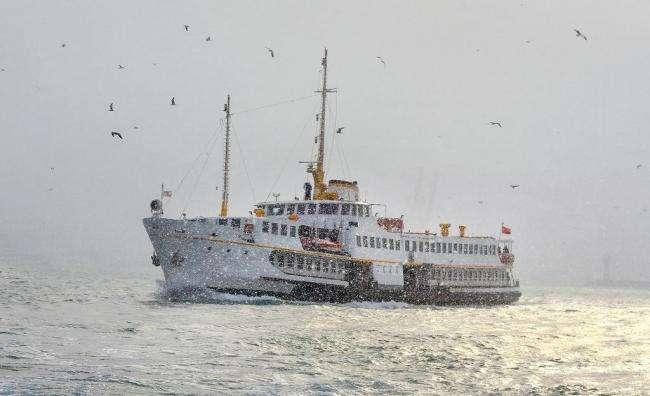bird: (260, 42, 280, 58), (107, 127, 126, 142), (168, 95, 179, 110)
otherboat: (143, 157, 521, 300)
